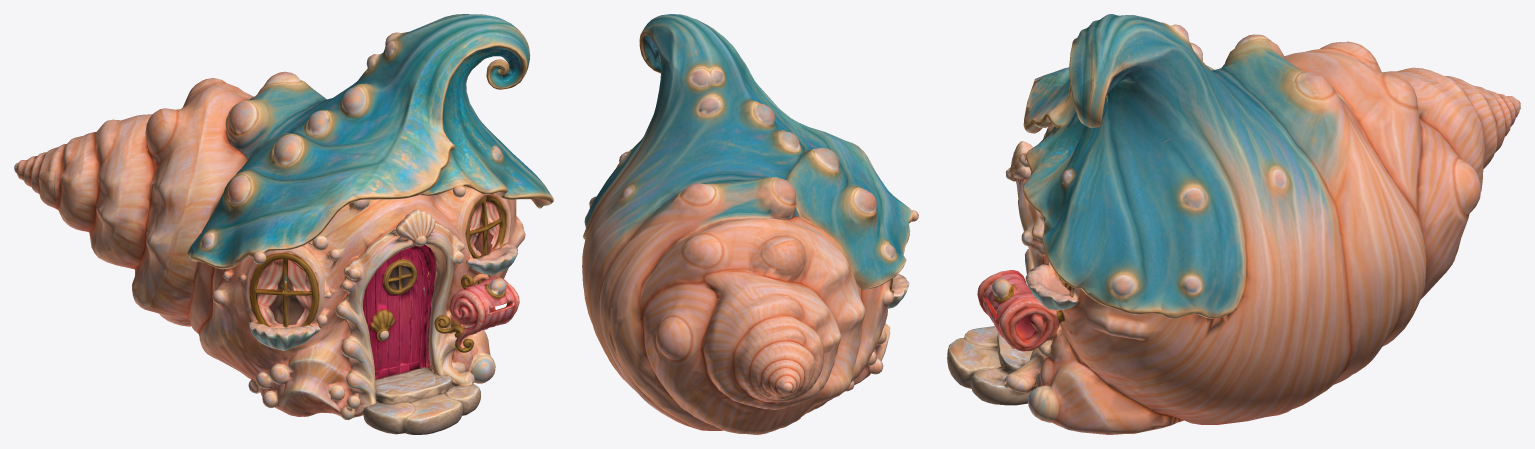
3 renders of one model, left to right at view 1: azimuth 30°, elevation 25°; view 2: azimuth 150°, elevation 25°; view 3: azimuth 270°, elevation 25°, orthographic. The views are drawn at different scales.
Size of the model in its own units: 1.66 by 1.49 by 1.9.
1 material, 1 textured.
